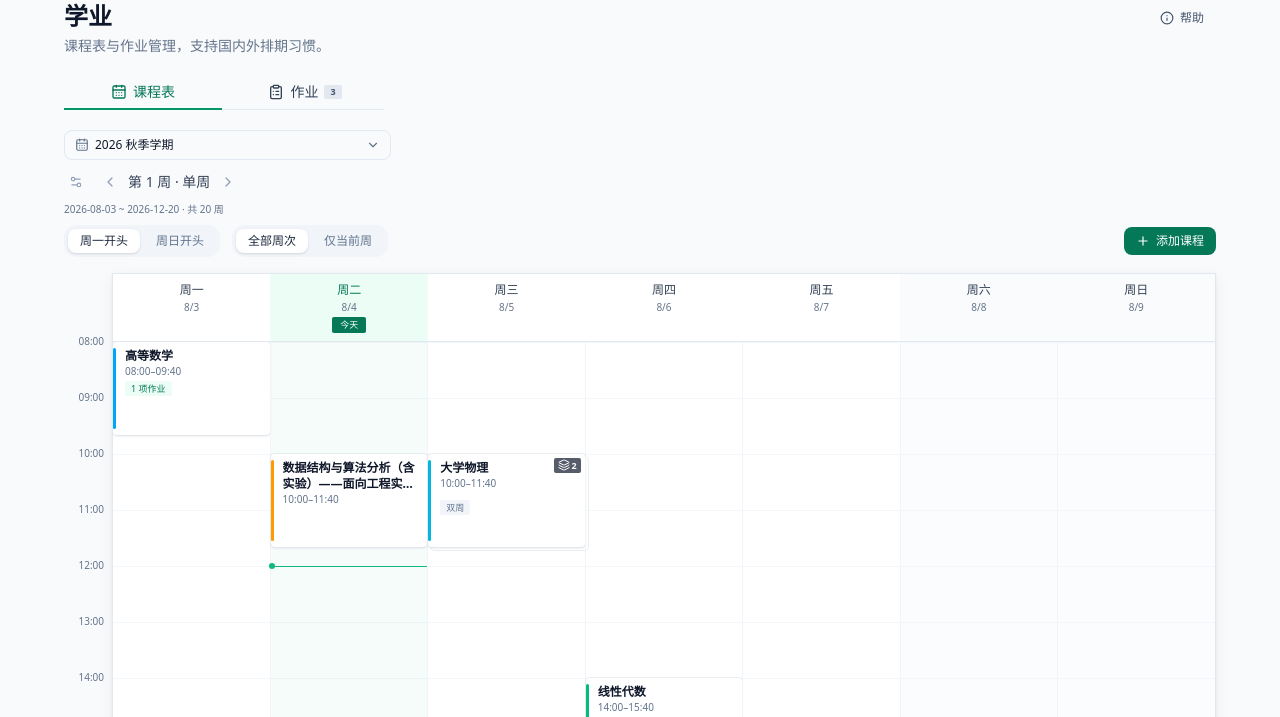
Test: StudyPage › 默认显示课程表与示例课程、当前周信息，主切换为等宽图标页签
Expected: the heading "学业" is shown, [64,0,112,32]
Expected: the text "高等数学" is shown, [125,346,173,364]
Step 1. Click the button with aria-label "共 2 门" → (506, 500), box [428,454,585,547]
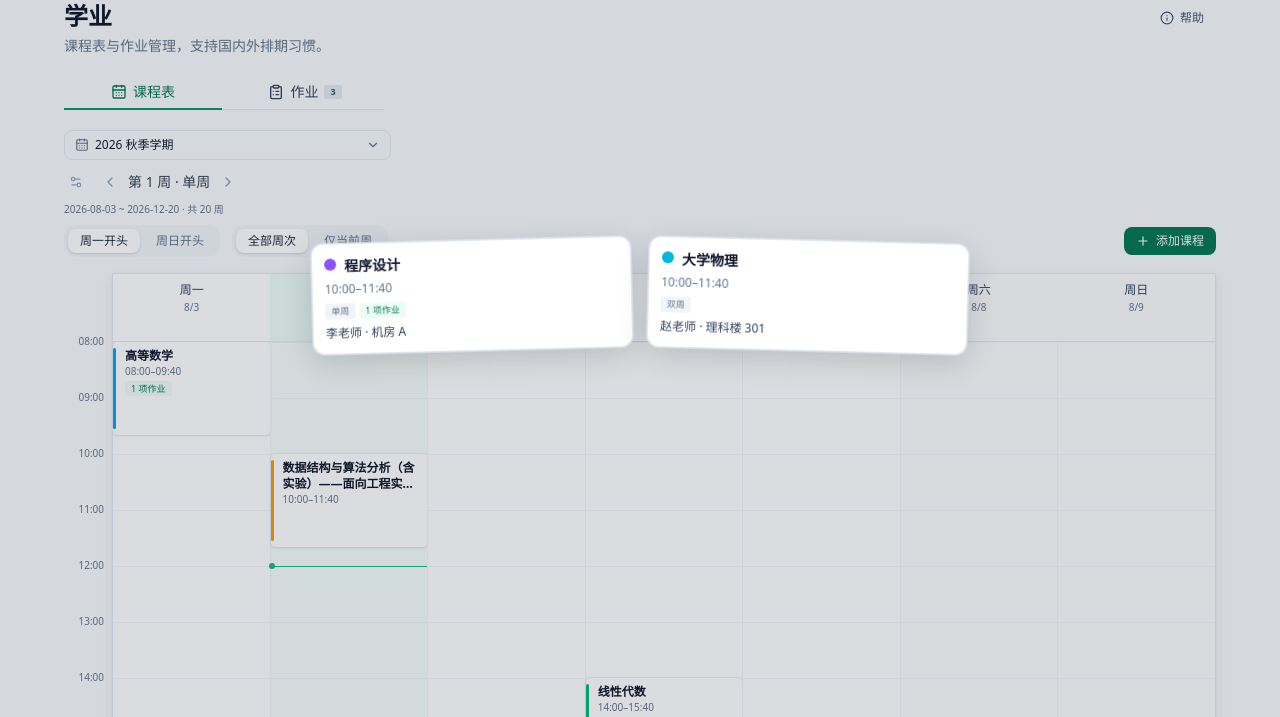
Expected: the text "大学物理" is shown, [682,250,738,270]
Expected: the text "程序设计" is shown, [344,255,400,276]
